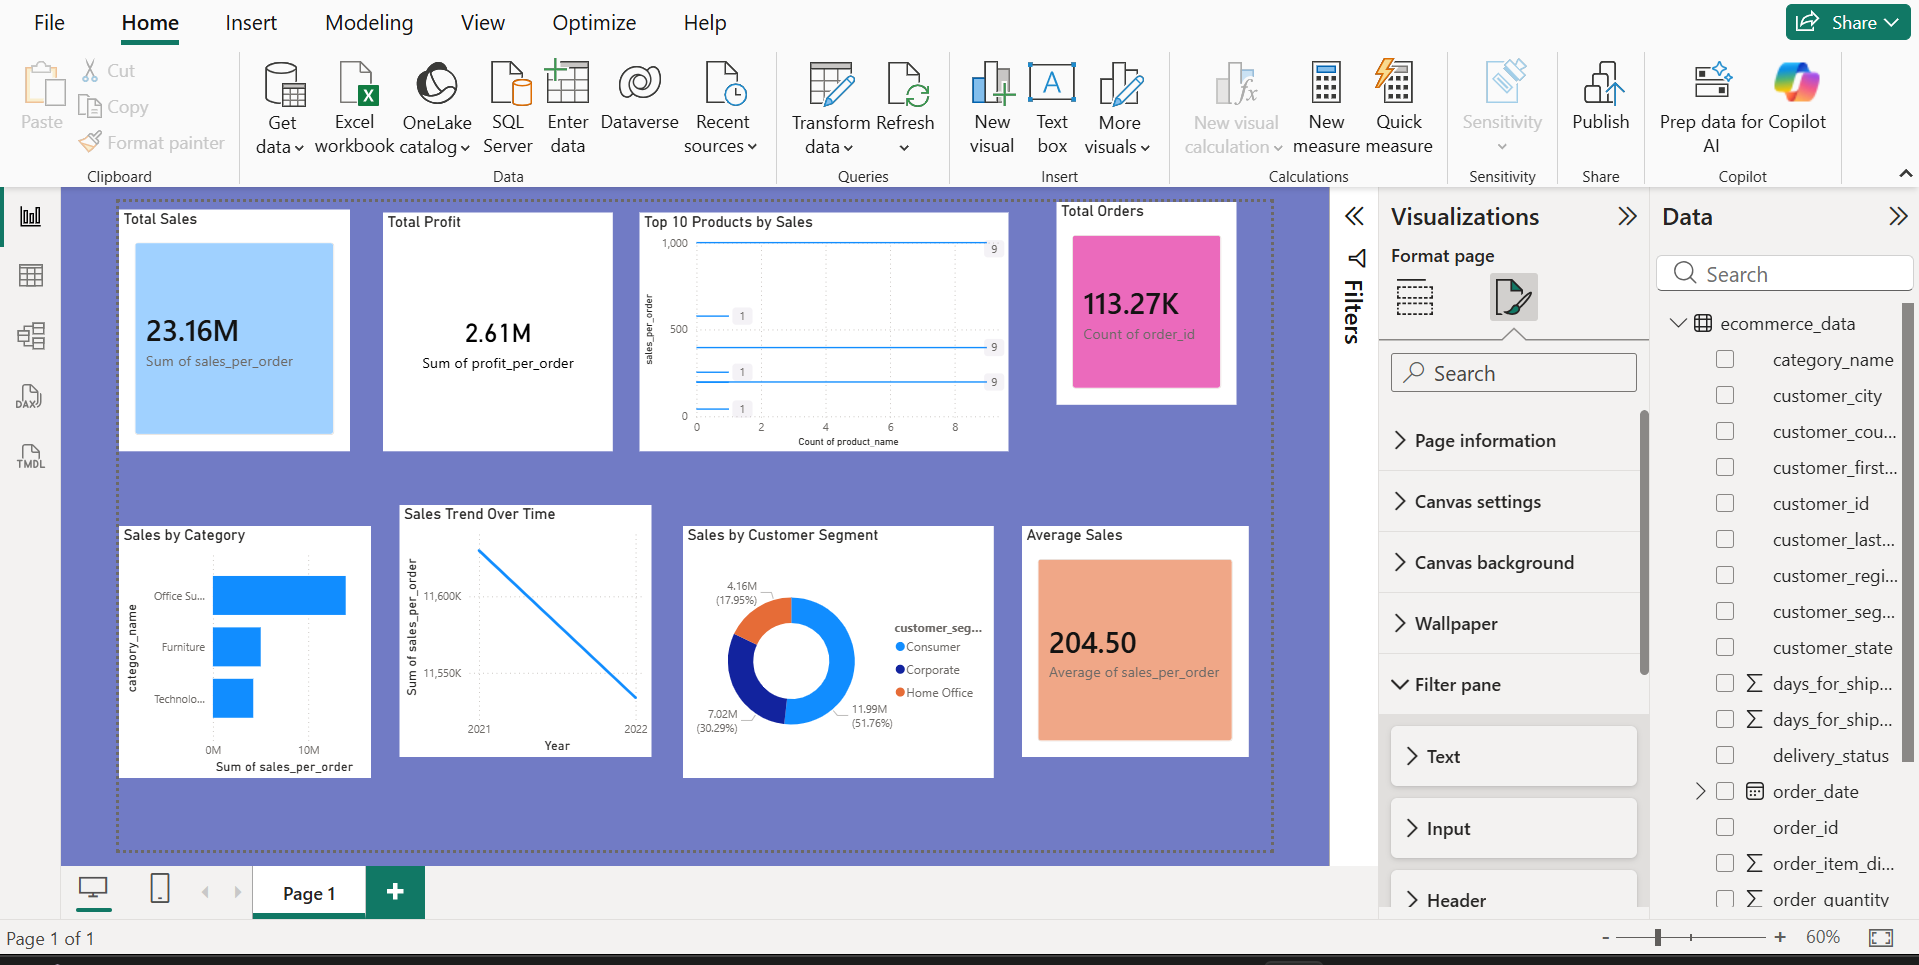

What the dashboard file says about the page in this screenshot:
{"tool":"powerbi","page":{"name":"Page 1","canvas":[1280,720],"ordinal":0},"visuals":[{"type":"cardVisual","title":"Total Sales","fields":{"Data":["Sum(ecommerce_data.sales_per_order)"]},"box":[0,8.6,241.4,240],"z":0},{"type":"card","title":"Total Profit","fields":{"Values":["Sum(ecommerce_data.profit_per_order)"]},"box":[268.6,20,254.3,217.1],"z":1000},{"type":"clusteredBarChart","title":"Sales by Category","fields":{"Category":["ecommerce_data.category_name"],"Y":["Sum(ecommerce_data.sales_per_order)"]},"box":[0,271.4,280,280],"z":2000},{"type":"lineChart","title":"Sales Trend Over Time","fields":{"Category":["ecommerce_data.order_date.Variation.Date Hierarchy.Year","ecommerce_data.order_date.Variation.Date Hierarchy.Quarter","ecommerce_data.order_date.Variation.Date Hierarchy.Month","ecommerce_data.order_date.Variation.Date Hierarchy.Day"],"Y":["Sum(ecommerce_data.sales_per_order)"]},"box":[311.4,271.4,280,280],"z":3000},{"type":"clusteredBarChart","title":"Top 10 Products by Sales","fields":{"Y":["CountNonNull(ecommerce_data.product_name)"],"Category":["ecommerce_data.sales_per_order"]},"box":[578.6,11.4,282.9,237.1],"z":4000},{"type":"donutChart","title":"Sales by Customer Segment","fields":{"Category":["ecommerce_data.customer_segment"],"Y":["Sum(ecommerce_data.sales_per_order)"]},"box":[612.9,271.4,345.7,280],"z":5000},{"type":"cardVisual","title":"Total Orders","fields":{"Data":["CountNonNull(ecommerce_data.order_id)"]},"box":[914.3,0,201.4,224.3],"z":6000},{"type":"cardVisual","title":"Average Sales","fields":{"Data":["Avg(ecommerce_data.sales_per_order)"]},"box":[968.6,282.9,215.7,212.9],"z":7000}]}

Visuals, with their boxes on the page's 1280x720 design canvas (x1, y1, x2, y2). These are canvas units, not pixel positions in the 1919x965 screenshot, which may show the page scaled, cropped or inside an application window:
"Total Sales" cardVisual: (x1=0, y1=9, x2=241, y2=249)
"Total Profit" card: (x1=269, y1=20, x2=523, y2=237)
"Sales by Category" clusteredBarChart: (x1=0, y1=271, x2=280, y2=551)
"Sales Trend Over Time" lineChart: (x1=311, y1=271, x2=591, y2=551)
"Top 10 Products by Sales" clusteredBarChart: (x1=579, y1=11, x2=862, y2=248)
"Sales by Customer Segment" donutChart: (x1=613, y1=271, x2=959, y2=551)
"Total Orders" cardVisual: (x1=914, y1=0, x2=1116, y2=224)
"Average Sales" cardVisual: (x1=969, y1=283, x2=1184, y2=496)
